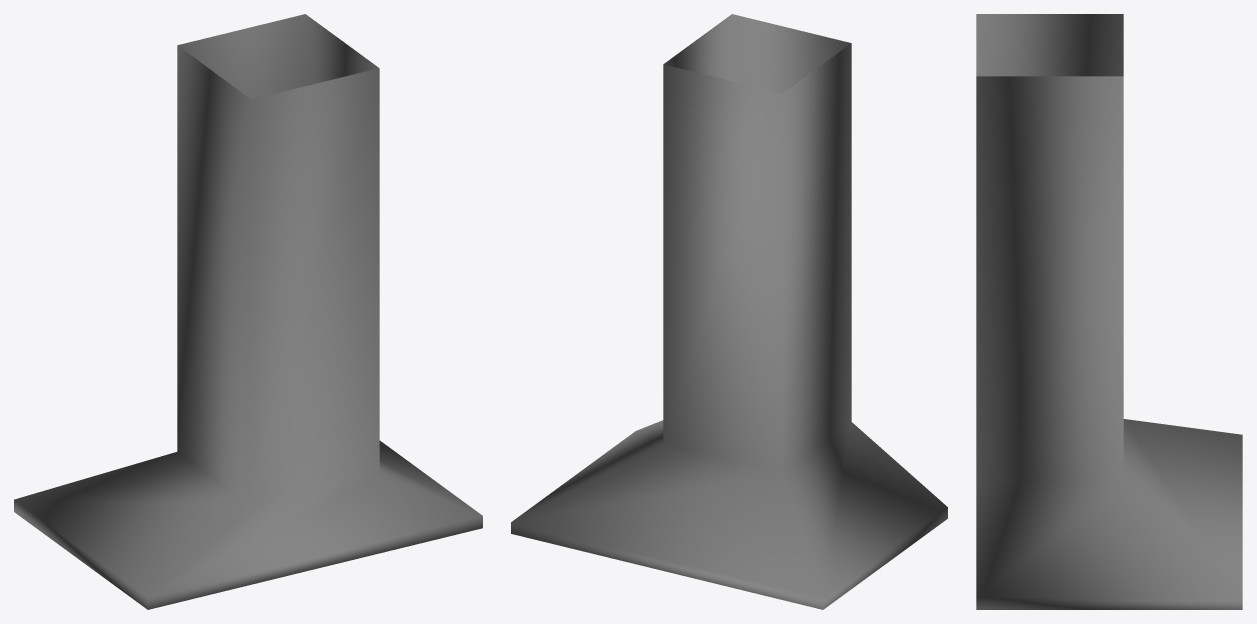
Rendered from vitiajka.obj.
3 renders of one model, left to right at view 1: azimuth 30°, elevation 25°; view 2: azimuth 150°, elevation 25°; view 3: azimuth 270°, elevation 25°, orthographic. The views are drawn at different scales.
Visible parts, largest first — view 1: obj1; view 2: obj1; view 3: obj1.
Boxes of the visible parts, box(x1,y1,x2,y2) form: obj1: box(14, 14, 482, 609); obj1: box(511, 14, 947, 609); obj1: box(976, 14, 1242, 609).
Size of the model in its own units: 0.5882 by 0.8143 by 0.407.
